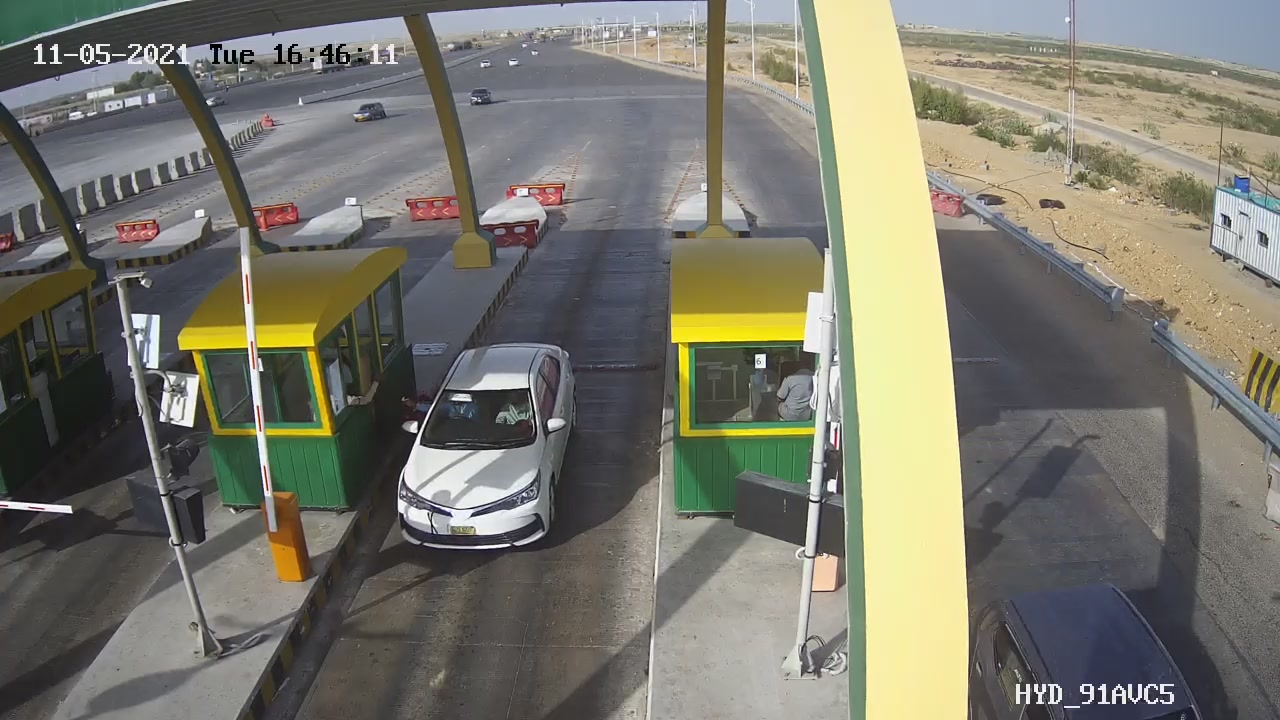F1: (378, 324, 601, 569)
